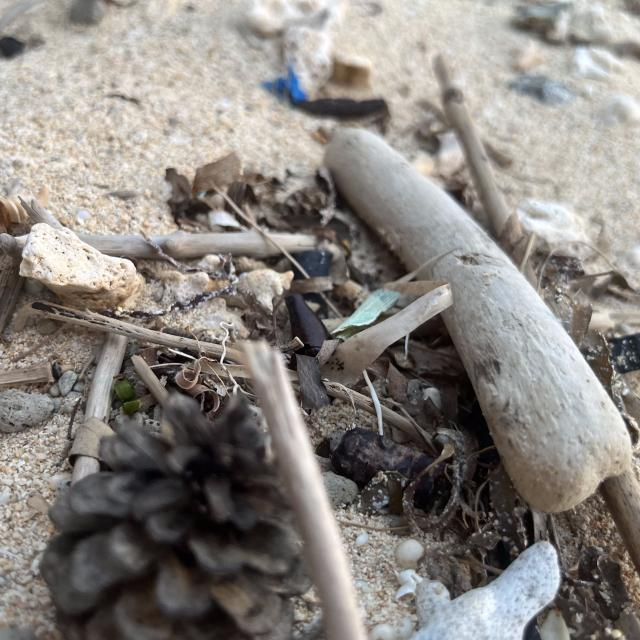coral: (409, 539, 557, 640)
pinecone: (48, 379, 308, 640)
rock: (20, 220, 151, 318)
stick: (325, 129, 640, 525), (54, 231, 321, 256)
trash: (257, 62, 327, 115), (342, 280, 401, 336)
